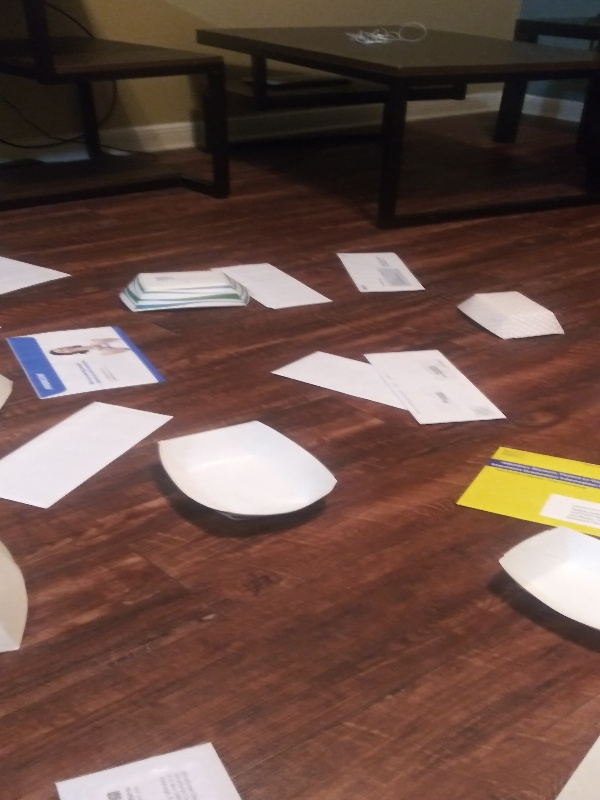plate: (151, 416, 344, 532), (492, 522, 600, 649), (114, 268, 253, 315), (452, 288, 568, 344), (1, 532, 31, 662), (1, 367, 19, 423)
